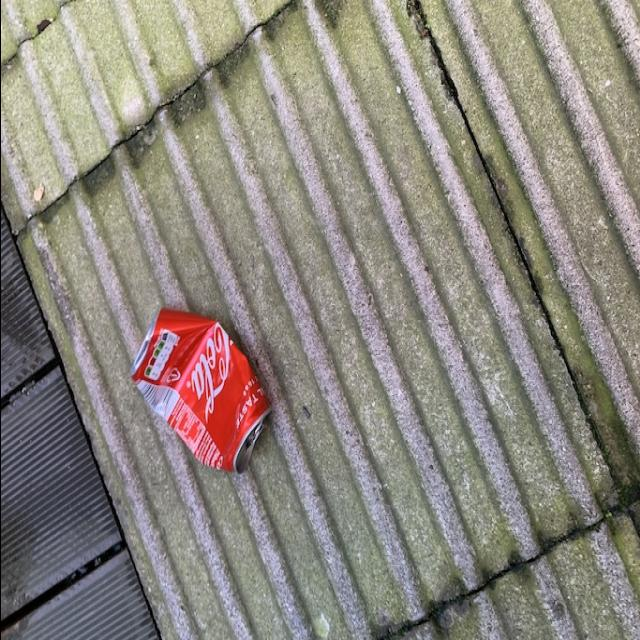litter: (128, 311, 270, 490)
